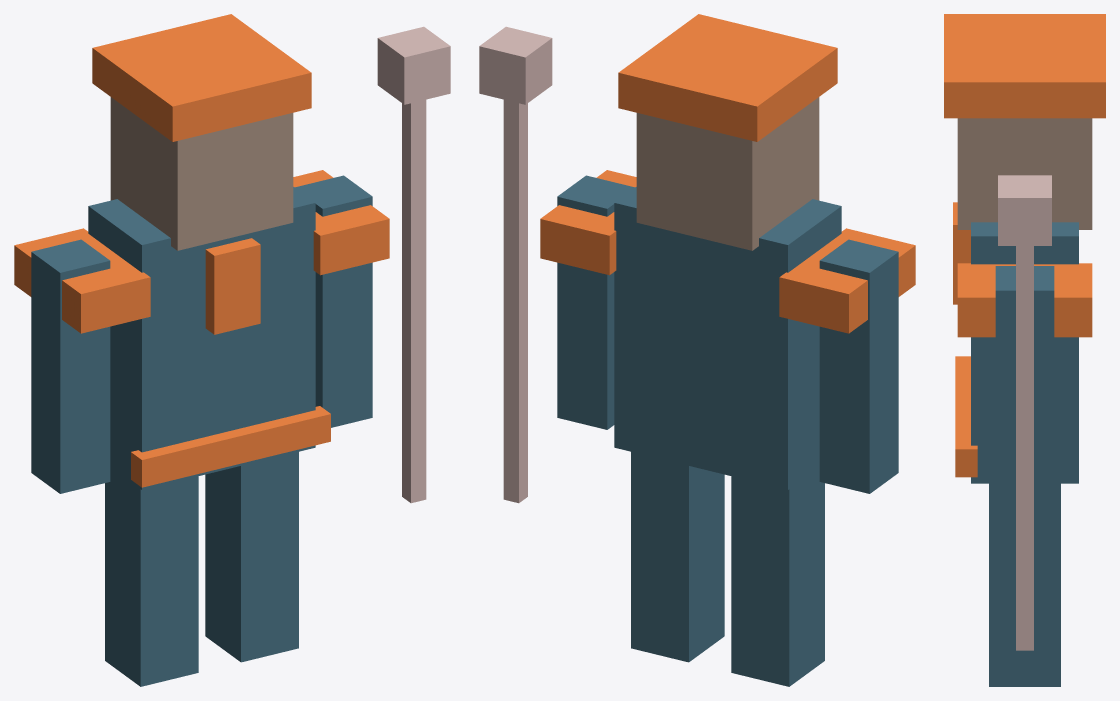
The model's file is 05_bex_echohand_sentinel_near_tempest.glb.
The picture shows the model from 3 angles, left to right: view 1: azimuth 30°, elevation 25°; view 2: azimuth 150°, elevation 25°; view 3: azimuth 270°, elevation 25°; orthographic projection.
Parts seen in each view (by area): view 1: Bex Echohand, Sentinel near Tempest; view 2: Bex Echohand, Sentinel near Tempest; view 3: Bex Echohand, Sentinel near Tempest.
Boxes of the visible parts, box(x1,y1,x2,y2) form: Bex Echohand, Sentinel near Tempest: box(14, 14, 450, 686); Bex Echohand, Sentinel near Tempest: box(479, 14, 915, 686); Bex Echohand, Sentinel near Tempest: box(944, 14, 1105, 686).
Bounding box in the file's own units: 1.07 × 1.55 × 0.3801.
